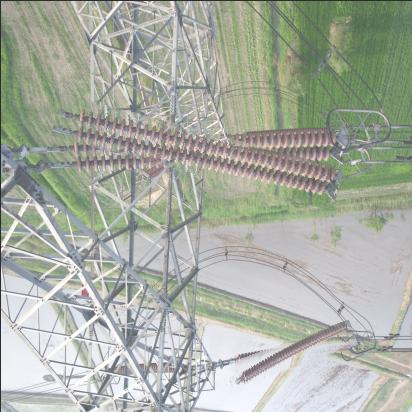insulator: (51, 111, 343, 192), (229, 331, 358, 379)
